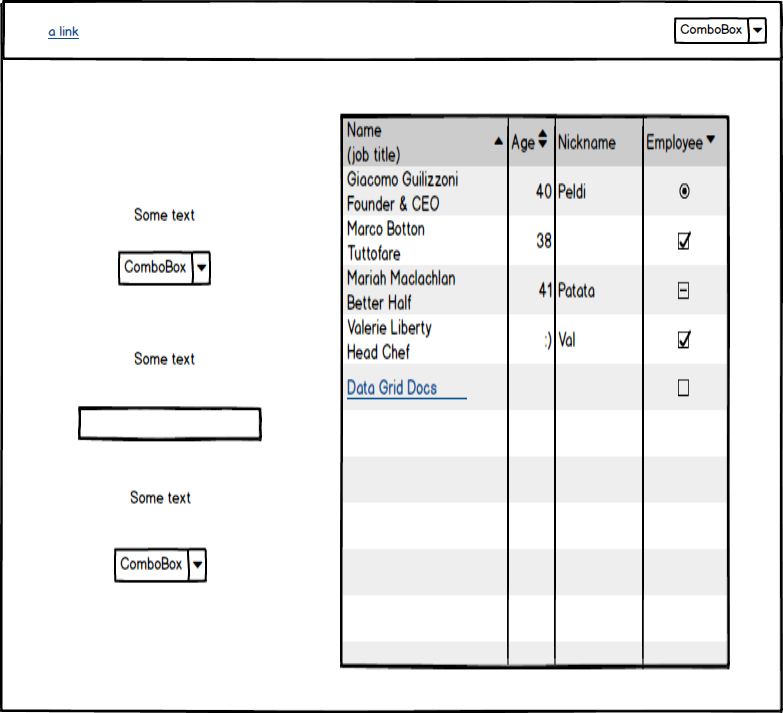input: (72, 404, 269, 447)
label: (128, 347, 205, 372), (124, 204, 204, 226), (129, 487, 193, 510)
navlink: (43, 19, 82, 43)
select_box: (109, 542, 216, 588), (114, 247, 217, 288), (669, 12, 770, 47)
table: (331, 110, 735, 674)
